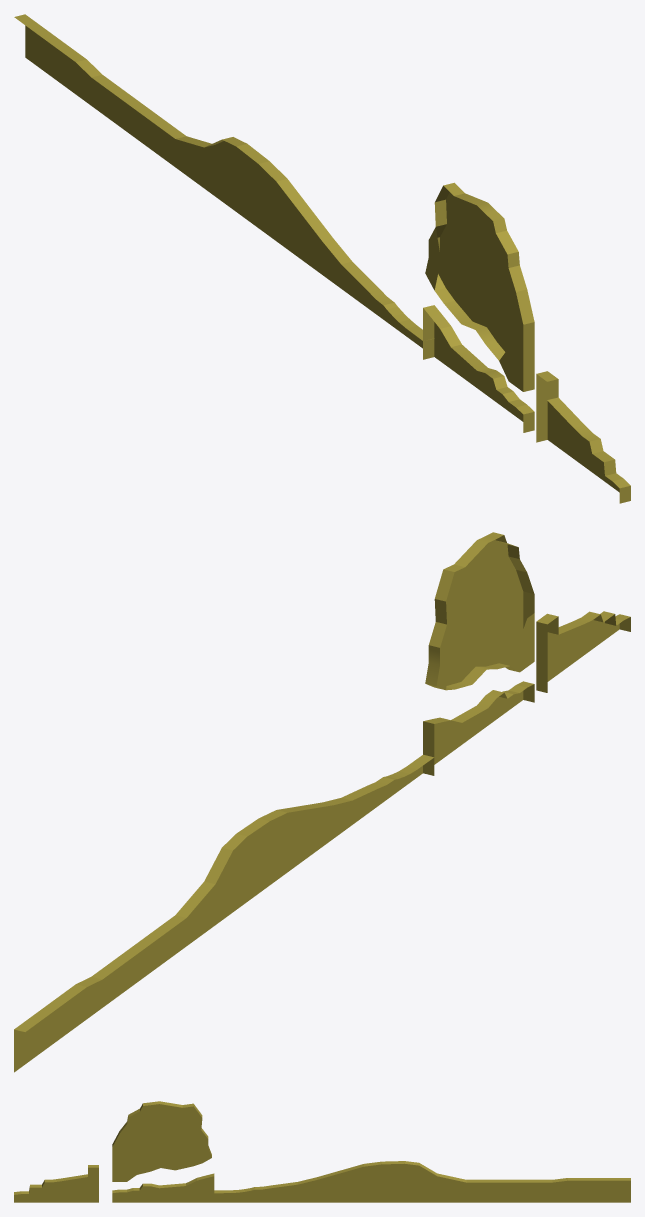
Rendered from Side Scroller (Sprint 5).fbx.
3 renders of one model, top to bottom at view 1: azimuth 30°, elevation 25°; view 2: azimuth 150°, elevation 25°; view 3: azimuth 270°, elevation 25°, orthographic. The views are drawn at different scales.
Visible parts, largest first — view 1: polySurface73, polySurface72, polySurface63, polySurface71; view 2: polySurface73, polySurface72, polySurface63, polySurface71; view 3: polySurface73, polySurface72, polySurface71, polySurface63.
Part boxes in pixels (left/top/right/bottom): polySurface73: left=14, top=14, right=434, bottom=356; polySurface72: left=425, top=182, right=534, bottom=391; polySurface63: left=536, top=371, right=630, bottom=503; polySurface71: left=423, top=305, right=534, bottom=432; polySurface73: left=14, top=754, right=433, bottom=1072; polySurface72: left=425, top=532, right=534, bottom=690; polySurface63: left=536, top=611, right=630, bottom=692; polySurface71: left=423, top=681, right=534, bottom=775; polySurface73: left=214, top=1161, right=630, bottom=1202; polySurface72: left=112, top=1101, right=211, bottom=1181; polySurface71: left=112, top=1173, right=214, bottom=1202; polySurface63: left=14, top=1165, right=98, bottom=1202.
Size of the model in its own units: 4.25 by 69.69 by 395.
